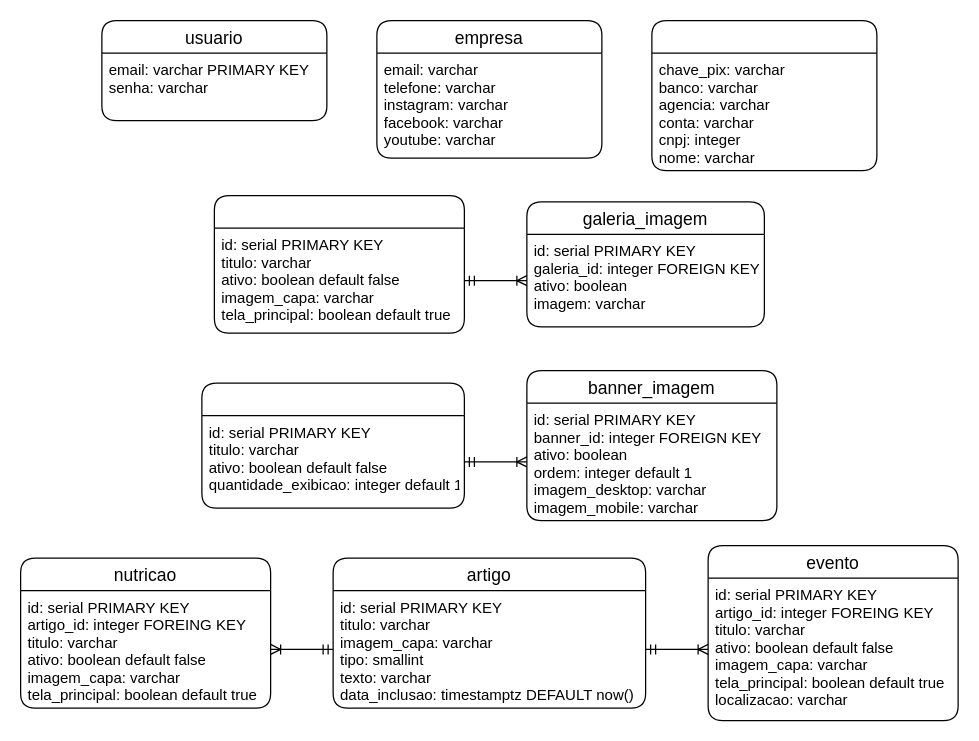
This 979x741 diagram has some shape labels left out. The shapes that lost their labels are listed below. From the top down, each one's box as (x1, y1, x2, y2) in pixels, then its label:
(651, 19, 877, 171): doacao
(213, 194, 464, 333): galeria
(201, 382, 464, 508): banner
